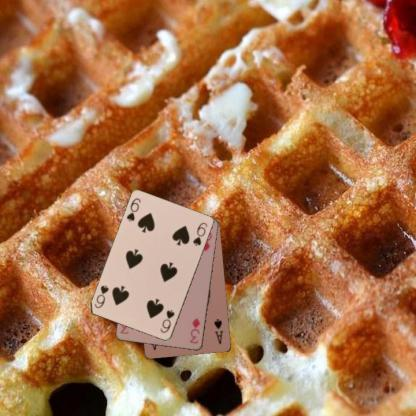3d: (187, 315, 202, 345)
6s: (158, 308, 176, 335), (124, 196, 142, 223)
As: (212, 316, 224, 346)
